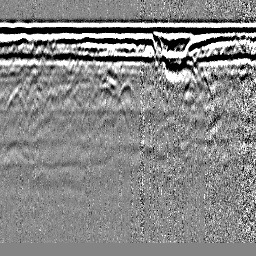cavity: (118, 77, 135, 101)
